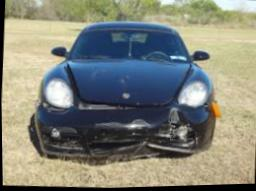Bumper: (38, 104, 211, 163)
